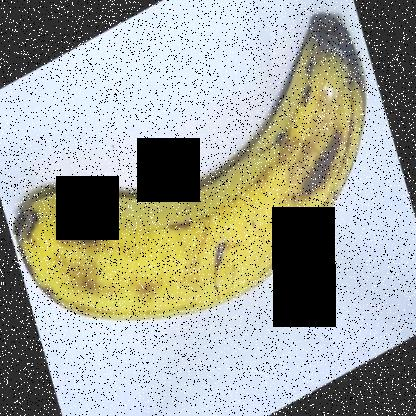ripe: (6, 2, 380, 346)
